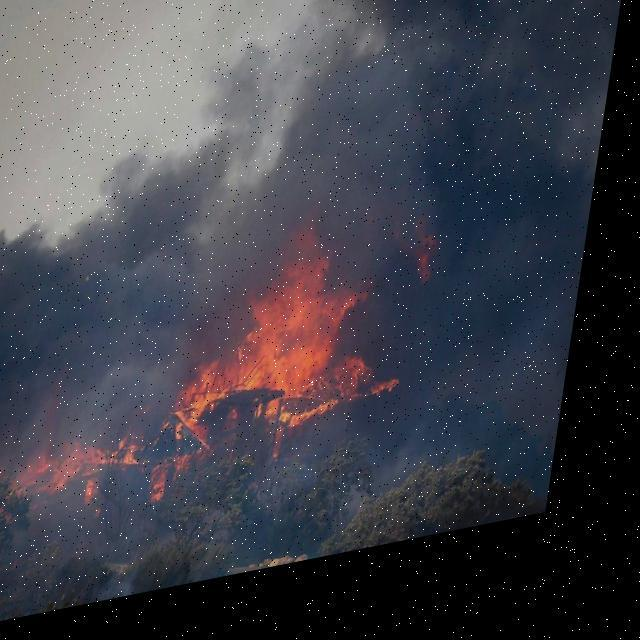Fire: (174, 200, 468, 475), (5, 419, 162, 512)
